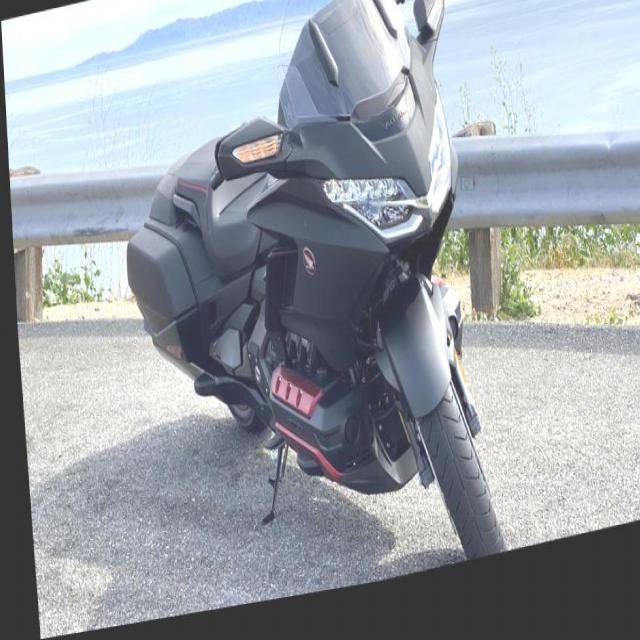Gold Wing: (104, 0, 501, 625)
